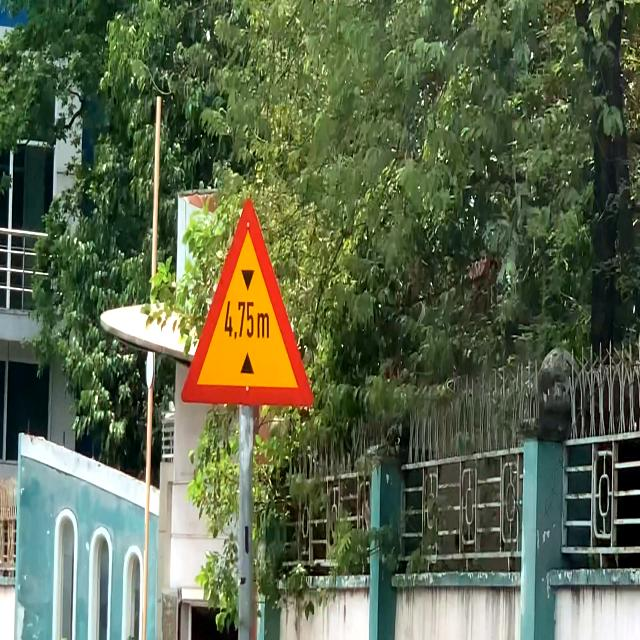S.509a: (181, 197, 315, 408)
